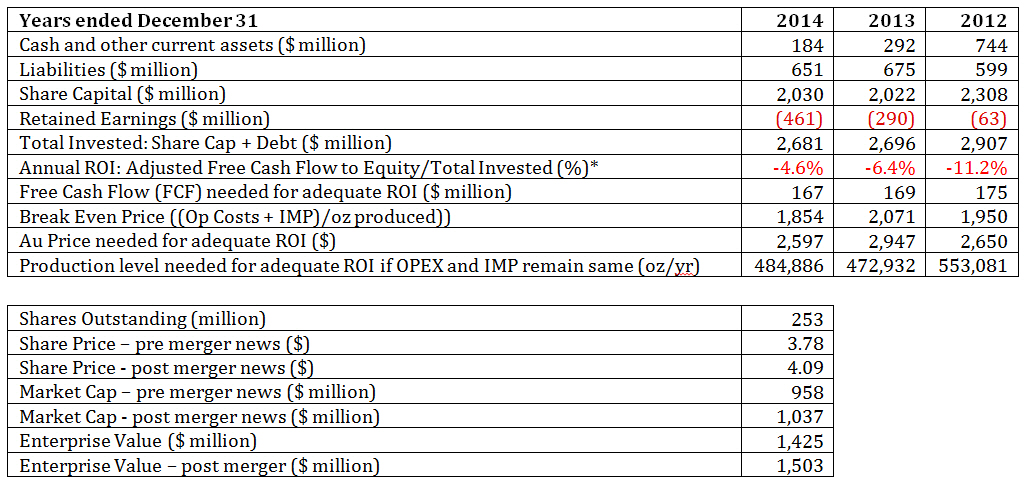table: (1, 3, 1023, 280), (5, 301, 838, 480)
